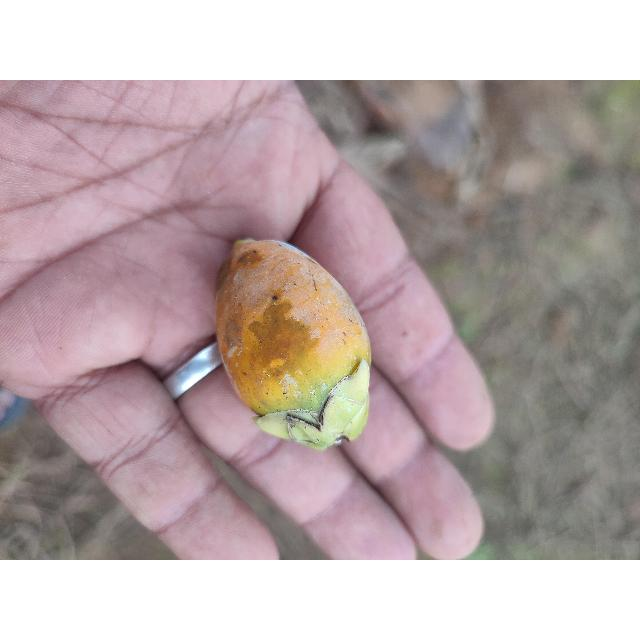good: (213, 239, 373, 452)
